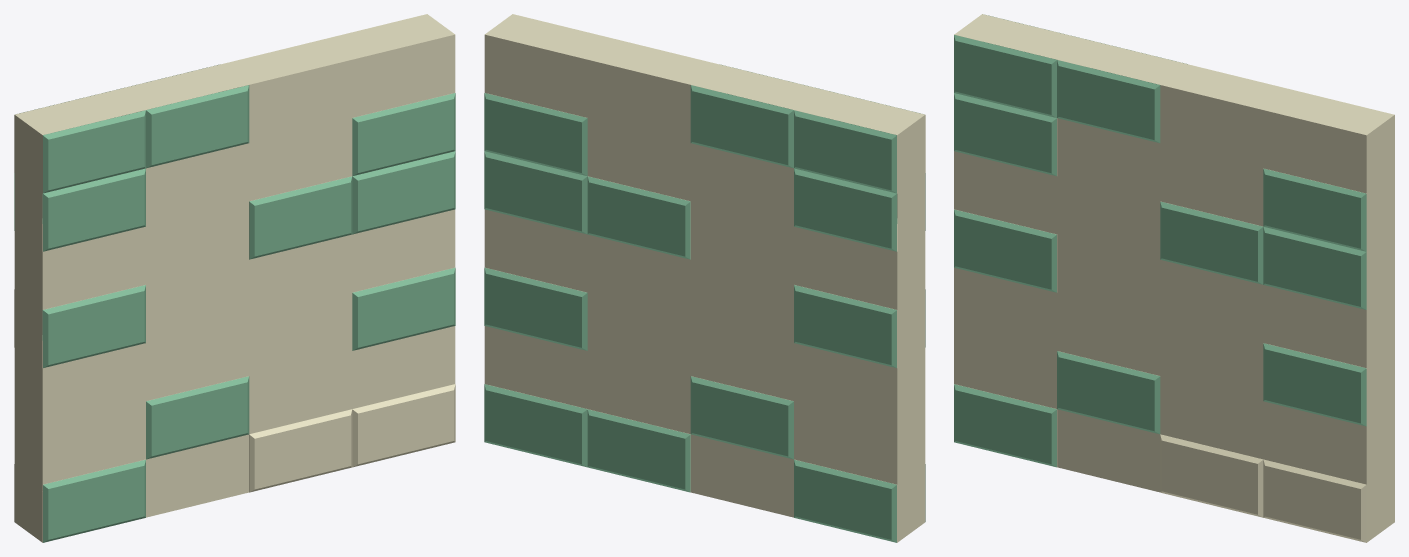
The model's file is Wall02_house3.obj.
3 renders of one model, left to right at view 1: azimuth 30°, elevation 25°; view 2: azimuth 150°, elevation 25°; view 3: azimuth 330°, elevation 25°, orthographic.
Visible parts, largest first — view 1: Wall02_house3_Cube; view 2: Wall02_house3_Cube; view 3: Wall02_house3_Cube.
Part boxes in pixels (x1,y1,x2,y2): Wall02_house3_Cube: (14,14,455,542); Wall02_house3_Cube: (484,14,925,542); Wall02_house3_Cube: (954,14,1394,542).
Size of the model in its own units: 3.44 by 3.25 by 0.4696.
